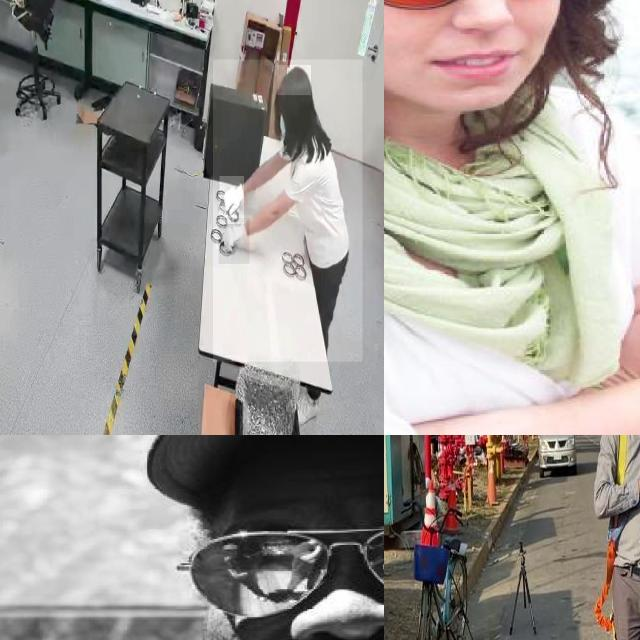Harness: (594, 536, 617, 640)
face_nomask: (203, 517, 384, 640), (384, 0, 569, 92)
glasses: (173, 515, 384, 604)
hand_glove: (218, 218, 250, 265), (220, 176, 244, 224)
hand_noglove: (615, 262, 640, 376)
head_nohelmet: (278, 65, 312, 96)
person: (384, 0, 640, 435), (213, 60, 363, 362)
